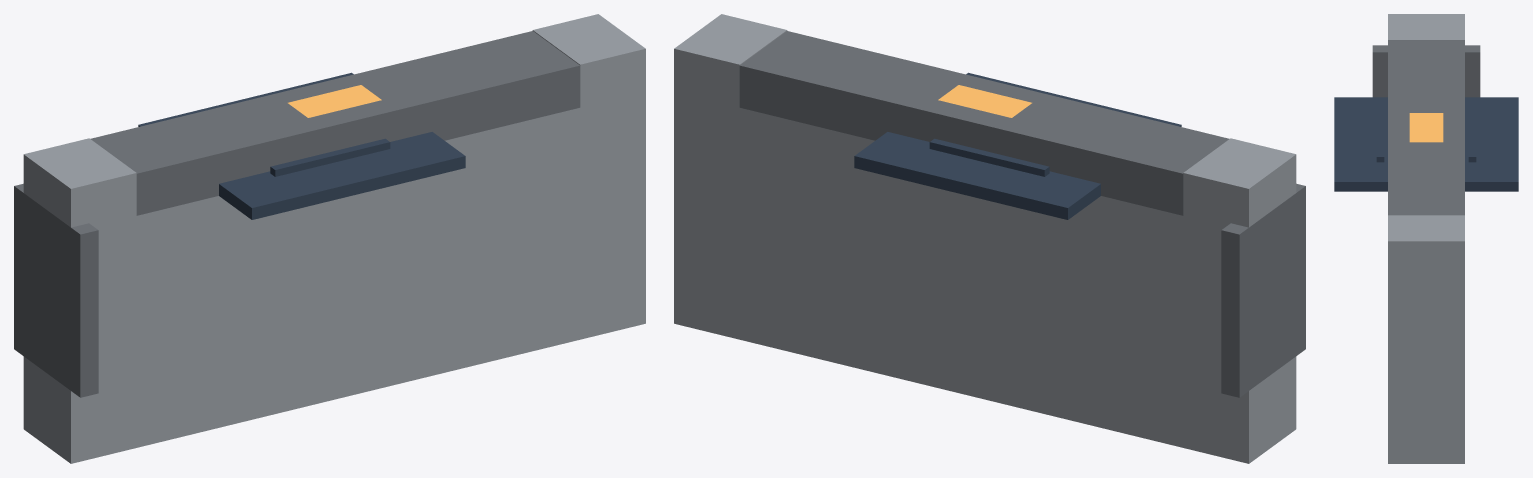
File: EK_Parapet.glb
3 views of the same model, side by side, from view 1: azimuth 30°, elevation 25°; view 2: azimuth 150°, elevation 25°; view 3: azimuth 270°, elevation 25° (orthographic). The views are drawn at different scales.
Parts seen in each view (by area): view 1: EK_Parapet__channel, EK_Parapet__bridge, EK_Parapet__outer_rib, EK_Parapet__hatch, EK_Parapet__bridge_lamp; view 2: EK_Parapet__channel, EK_Parapet__bridge, EK_Parapet__outer_rib, EK_Parapet__hatch, EK_Parapet__bridge_lamp; view 3: EK_Parapet__channel, EK_Parapet__bridge, EK_Parapet__hatch, EK_Parapet__outer_rib, EK_Parapet__bridge_lamp.
Boxes of the visible parts, x1,y1,x2,y2 form: EK_Parapet__channel: [23, 14, 645, 463]; EK_Parapet__bridge: [90, 31, 580, 215]; EK_Parapet__outer_rib: [14, 183, 98, 397]; EK_Parapet__hatch: [138, 72, 465, 219]; EK_Parapet__bridge_lamp: [288, 85, 381, 117]; EK_Parapet__channel: [674, 14, 1296, 463]; EK_Parapet__bridge: [739, 31, 1229, 215]; EK_Parapet__outer_rib: [1221, 183, 1305, 397]; EK_Parapet__hatch: [854, 72, 1181, 219]; EK_Parapet__bridge_lamp: [938, 85, 1031, 117]; EK_Parapet__channel: [1388, 14, 1464, 463]; EK_Parapet__bridge: [1388, 40, 1464, 215]; EK_Parapet__hatch: [1334, 97, 1518, 191]; EK_Parapet__outer_rib: [1372, 45, 1480, 97]; EK_Parapet__bridge_lamp: [1409, 113, 1443, 142].
Bounding box in the file's own units: 7 × 3.2 × 2.4.
